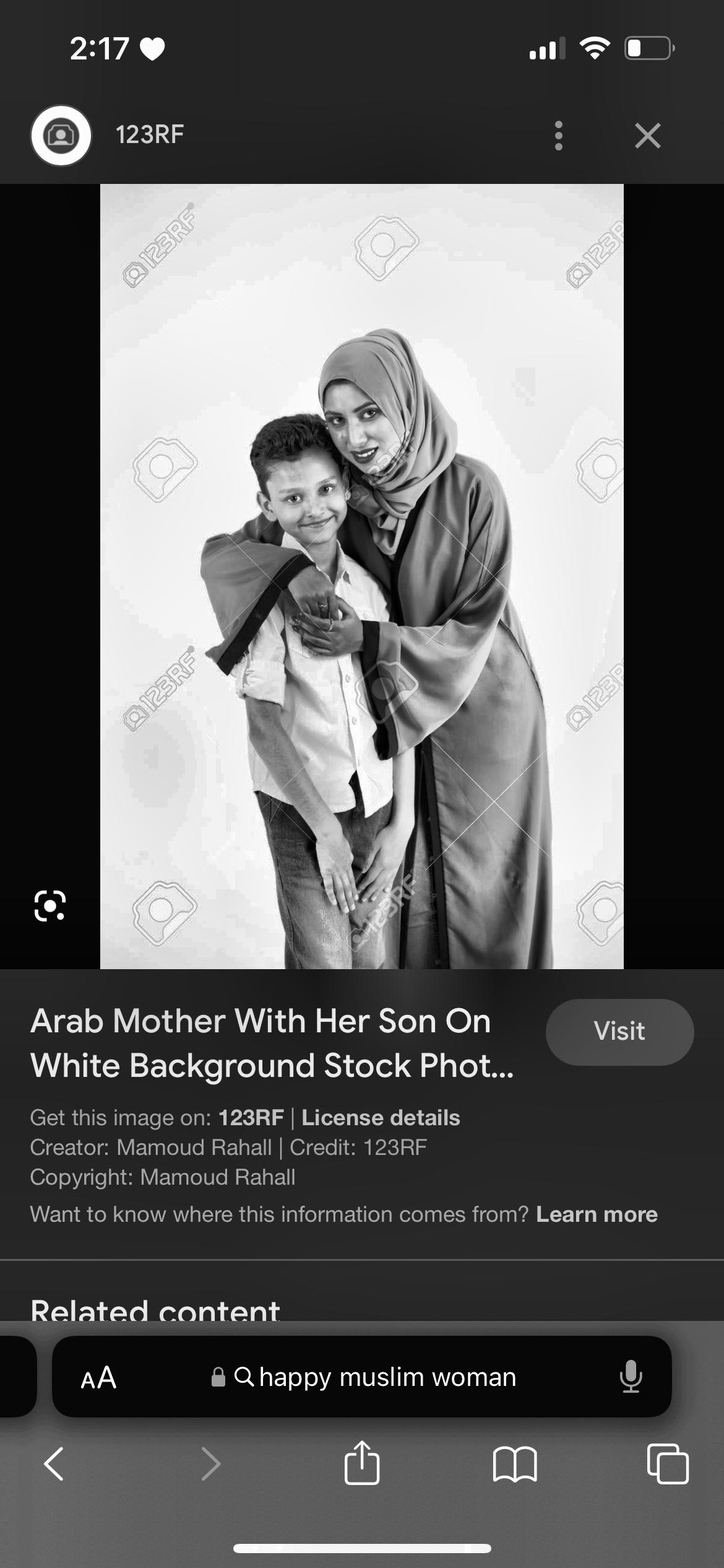happy: (263, 464, 349, 555)
